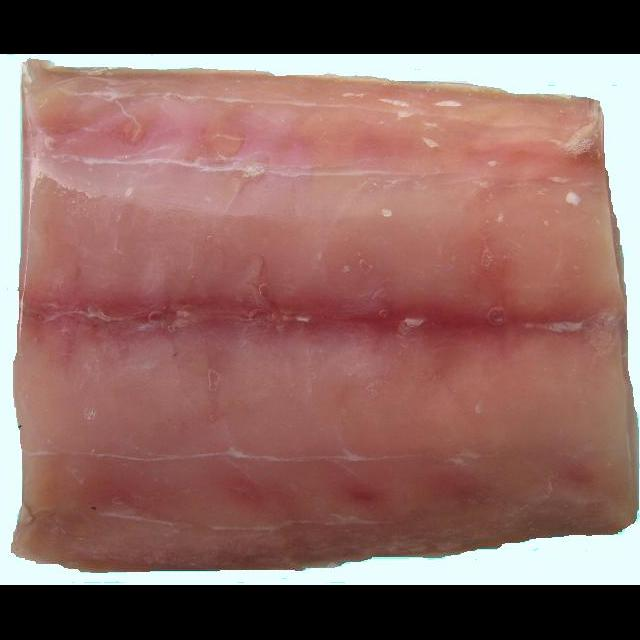fish: (0, 54, 640, 585)
